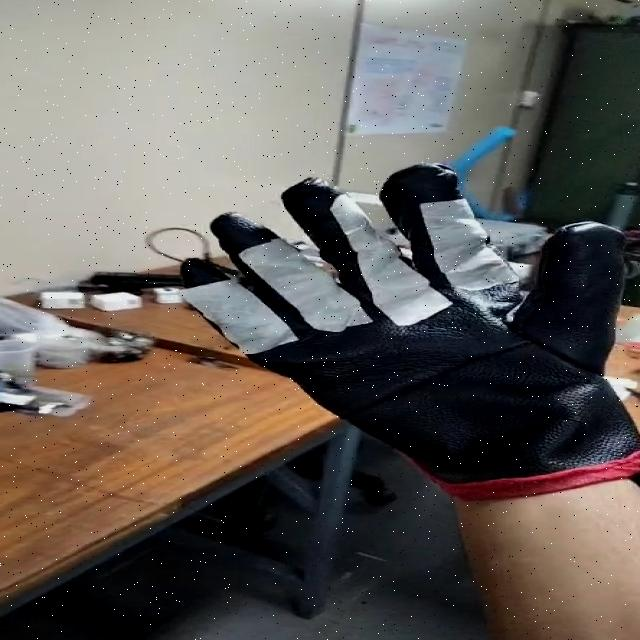Gloves: (183, 167, 640, 485)
